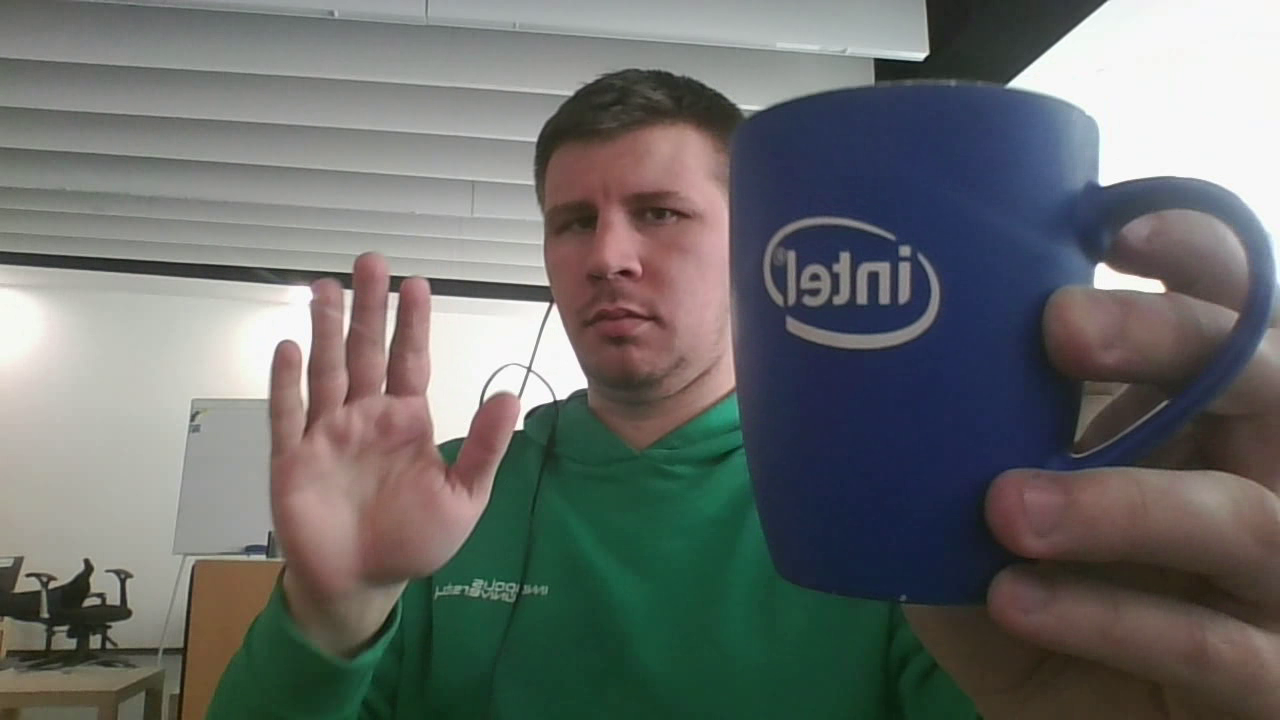cup: (728, 82, 1273, 610)
